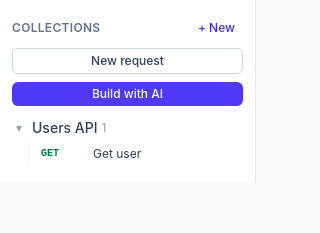
Scenario: CollectionsSidebar › CO-15: does not allow an empty name
Click the button "+ New".
click(216, 28)  # box 190,16 -> 243,40
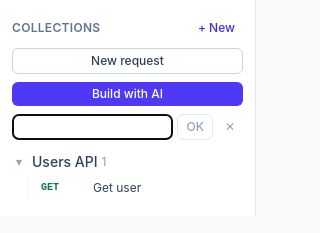
expect the button "OK" is disabled: met, box 178,114 -> 213,140
